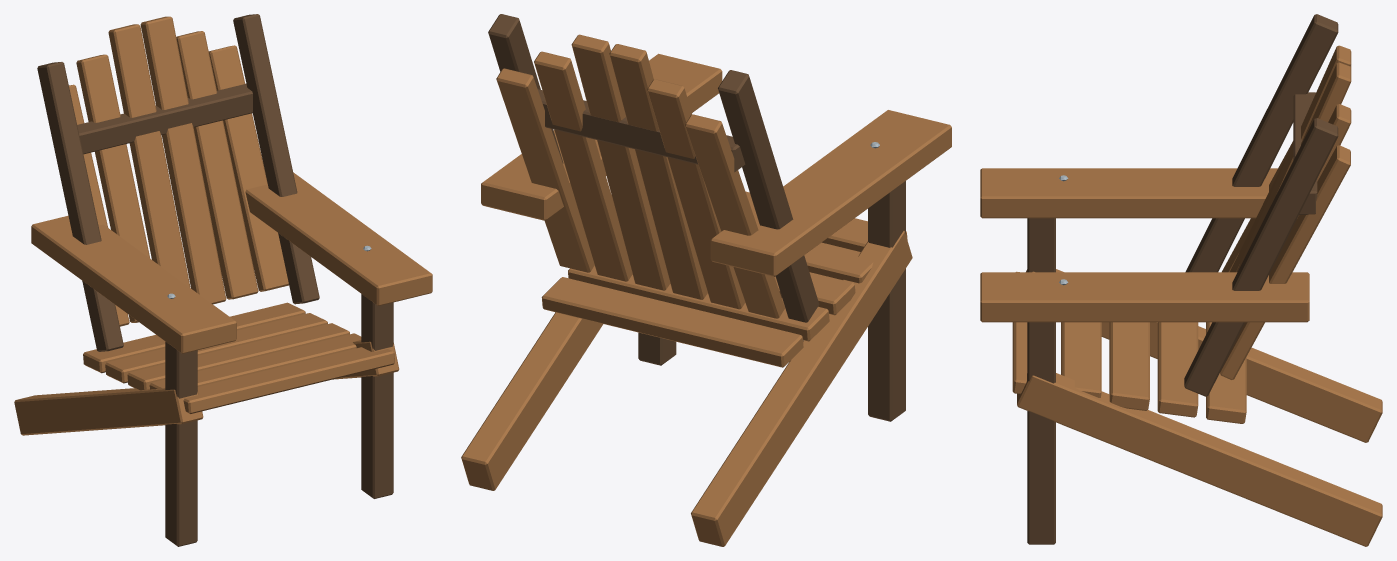
The model's file is b11_adirondack_garden_chair.glb.
The picture shows the model from 3 angles, left to right: view 1: azimuth 30°, elevation 25°; view 2: azimuth 150°, elevation 25°; view 3: azimuth 270°, elevation 25°; orthographic projection. The views are drawn at different scales.
Parts seen in each view (by area): view 1: b11_adirondack_garden_chair; view 2: b11_adirondack_garden_chair; view 3: b11_adirondack_garden_chair.
Part boxes in pixels (left/top/right/bottom): b11_adirondack_garden_chair: left=14, top=14, right=432, bottom=546; b11_adirondack_garden_chair: left=461, top=14, right=951, bottom=546; b11_adirondack_garden_chair: left=980, top=14, right=1382, bottom=546.
Size of the model in its own units: 0.72 by 1.08 by 0.9164.
